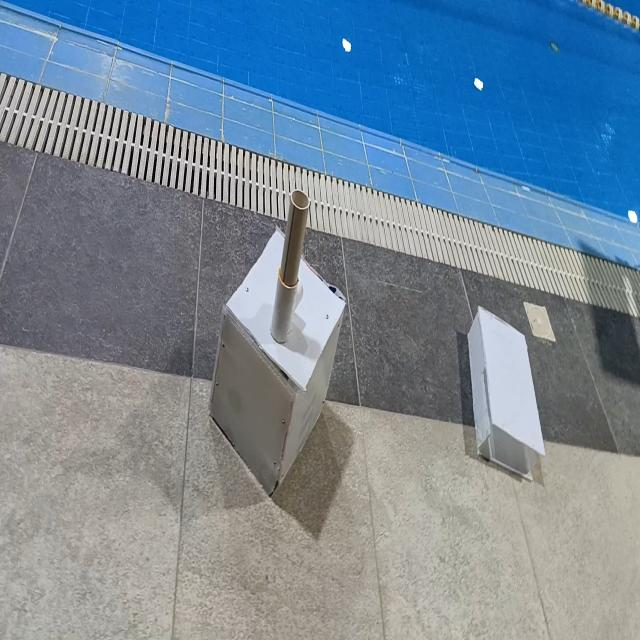Cube: (207, 224, 347, 496)
Cuboid: (466, 304, 546, 482)
